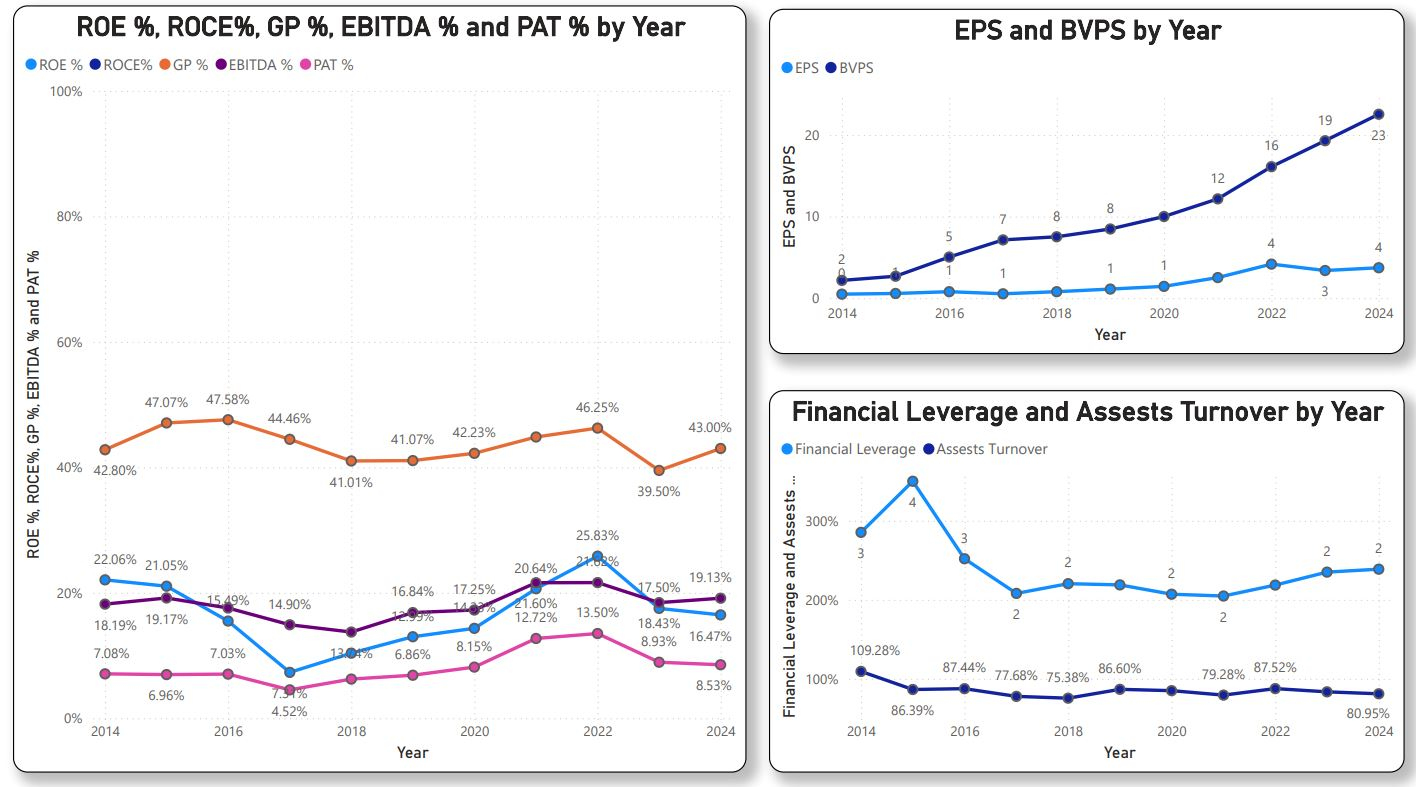

The dashboard page shown, as its layout file describes it:
{"tool":"powerbi","page":{"name":"Ratio Analysis","canvas":[1280,720],"ordinal":8},"visuals":[{"type":"lineChart","fields":{"Category":["Date Dim.Date.Variation.Date Hierarchy.Year"],"Y":["P&L Fact.ROE %","P&L Fact.ROCE%","P&L Fact.GP %","P&L Fact.EBITDA %","P&L Fact.PAT %"]},"box":[15.7,19.3,652.7,681.6],"z":0},{"type":"lineChart","fields":{"Category":["Date Dim.Date.Variation.Date Hierarchy.Year"],"Y":["P&L Fact.EPS","P&L Fact.BVPS"]},"box":[687.7,21.7,565.8,307.6],"z":1000},{"type":"lineChart","fields":{"Category":["Date Dim.Date.Variation.Date Hierarchy.Year"],"Y":["P&L Fact.Financial Leverage","BS Fact.Assests Turnover"]},"box":[687.7,360.7,565.8,340.2],"z":2000}]}

Visuals, with their boxes in screenshot pixels (x1, y1, x2, y2), scaled from the page's 1280x720 canvas onto the 1416x787 screenshot:
lineChart - Date Dim.Date.Variation.Date Hierarchy.Year x P&L Fact.ROE %: box=[17, 21, 739, 766]
lineChart - Date Dim.Date.Variation.Date Hierarchy.Year x P&L Fact.EPS: box=[761, 24, 1387, 360]
lineChart - Date Dim.Date.Variation.Date Hierarchy.Year x P&L Fact.Financial Leverage: box=[761, 394, 1387, 766]
